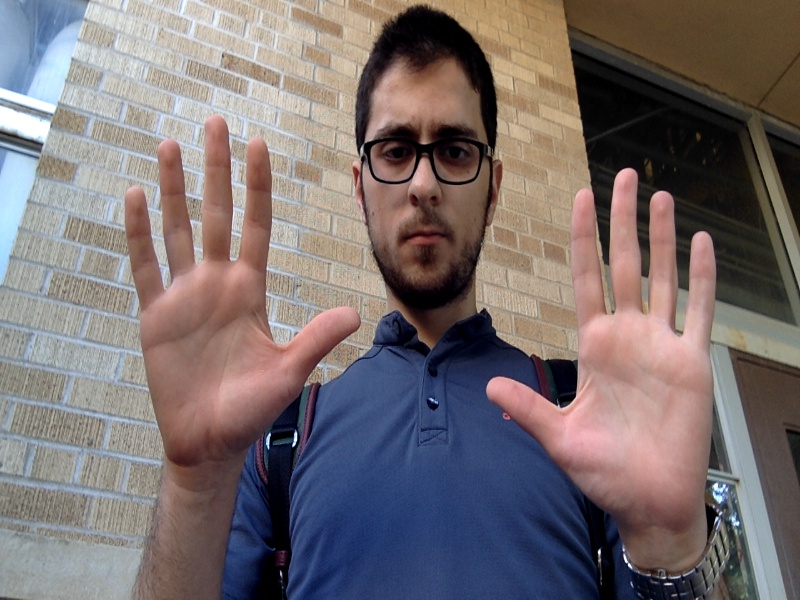5-hand: (486, 167, 714, 547), (126, 117, 359, 468)
